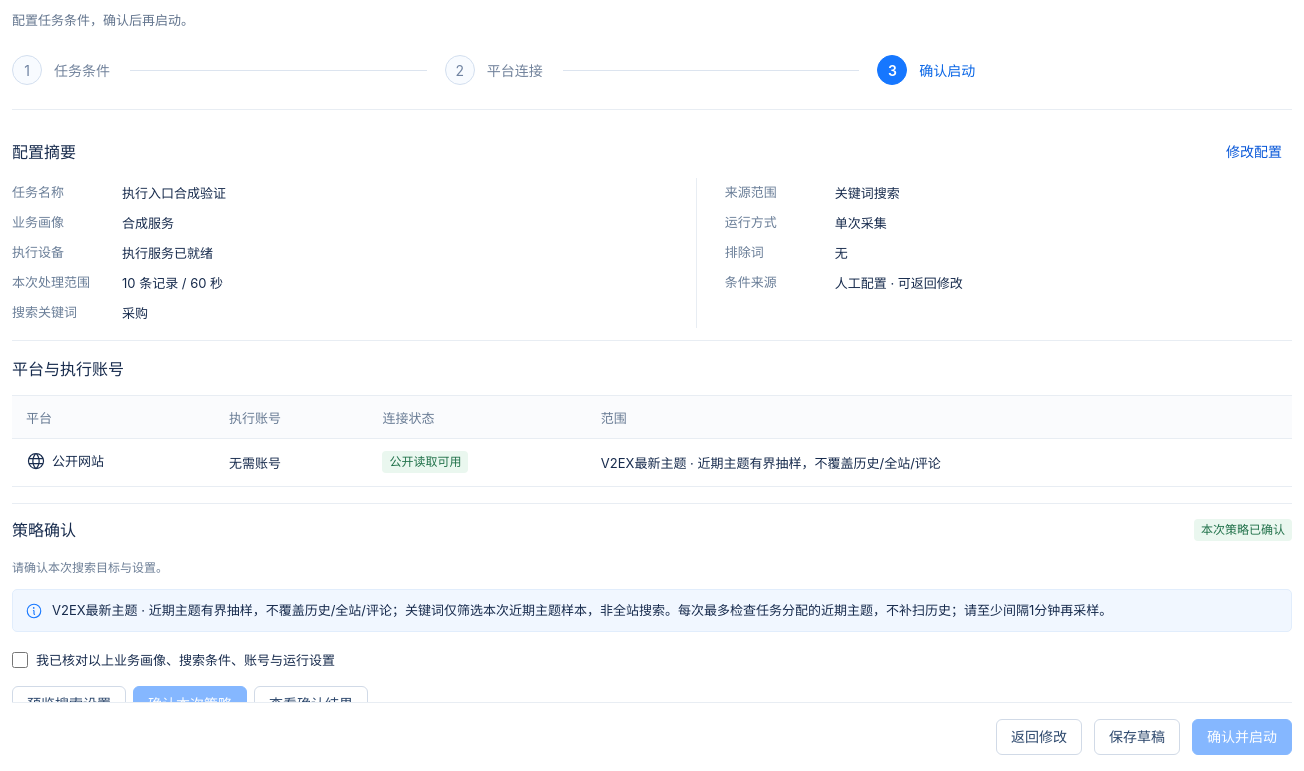
original TaskWizard signed execution entry › shows bounded public scope and refuses a changed device after explicit confirmation
Click the checkbox labelled "我已核对以上业务画像、搜索条件、账号与运行设置": [20, 660] box [12,652,28,668]
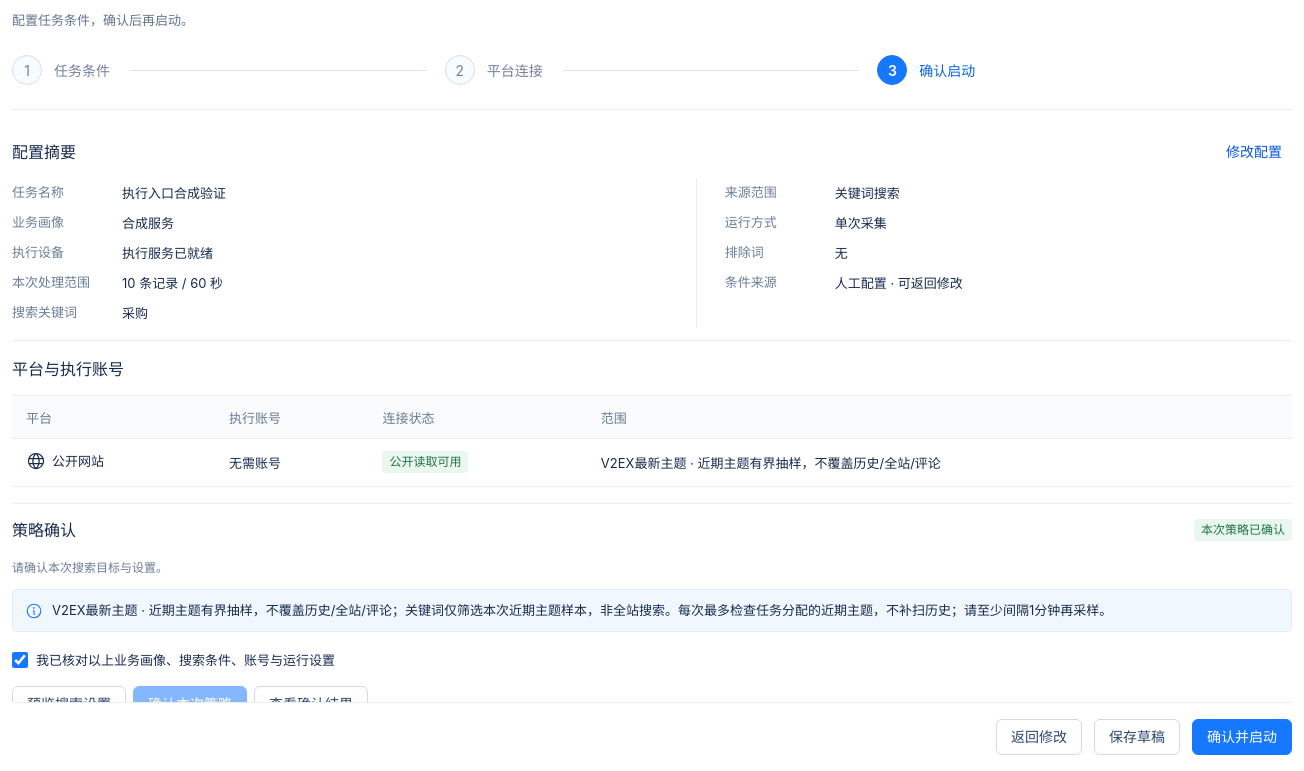
Check: the text "V2EX最新主题 · 近期主题有界抽样，不覆盖历史/全站/评论" is shown, box [587,438,1292,486]
Check: the button "确认并启动" is enabled
Click the button "确认并启动": [1242, 737] box [1192,719,1292,755]
(page scrolled)
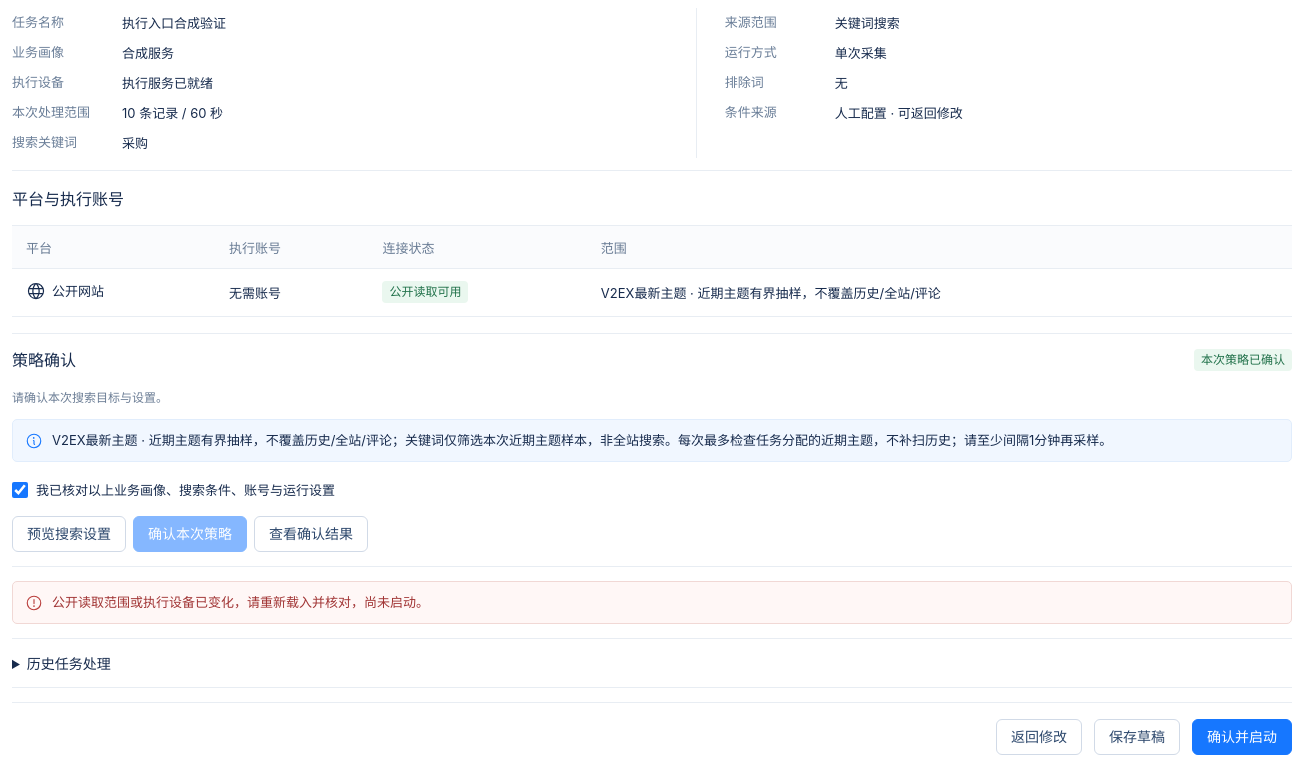
Check: the text "公开读取范围或执行设备已变化，请重新载入并核对，尚未启动。" is shown, box [52,594,429,610]
